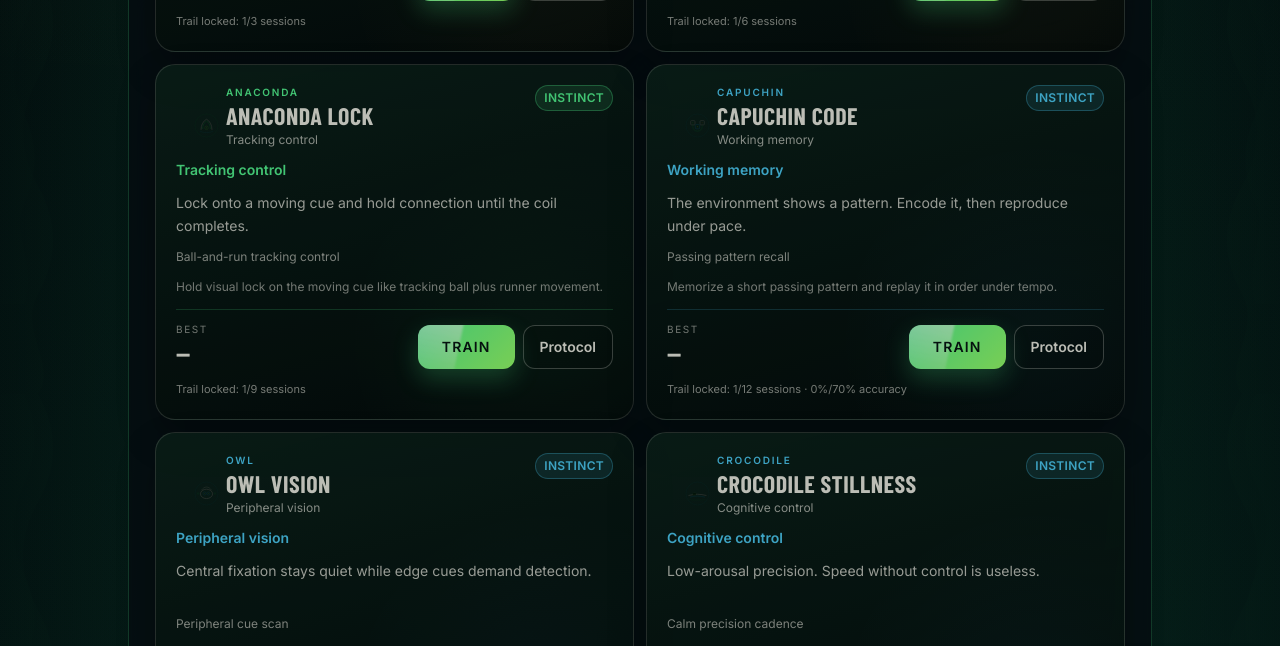
Test: App integration flow › launches Sequence Memory as a playable mode
(page scrolled)
Click the button "TRAIN" below "Passing pattern recall". click: (957, 347)
box: [909, 325, 1006, 369]
Wait 1020 ms
(page scrolled)
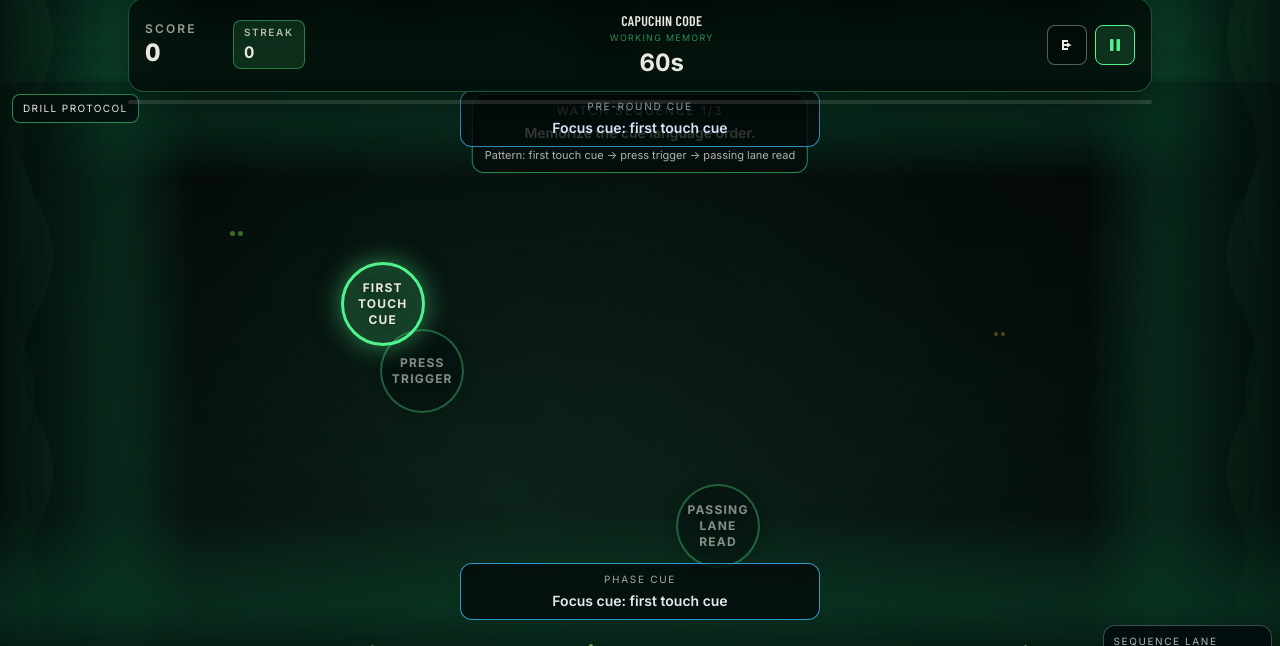
expect the text "Watch sequence 1/3" is shown: met, box [557, 103, 723, 118]
expect the button named "pause game" is shown: met, box [1095, 25, 1135, 65]
